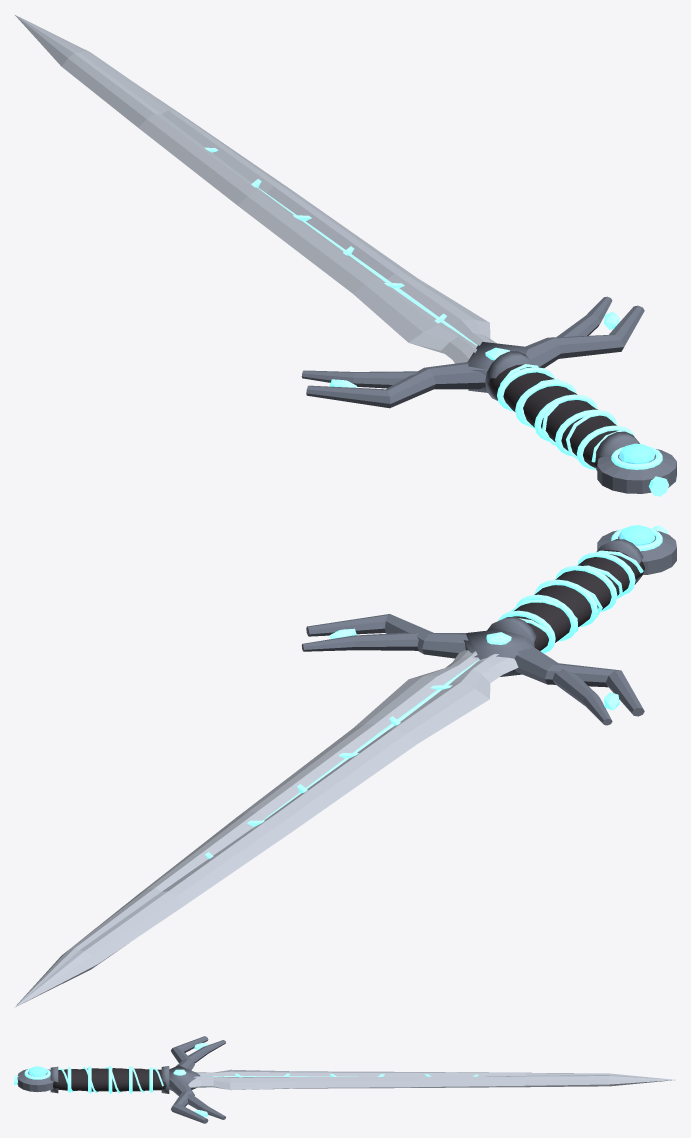
The model's file is SWORD_RUNE.glb.
The picture shows the model from 3 angles, top to bottom: view 1: azimuth 30°, elevation 25°; view 2: azimuth 150°, elevation 25°; view 3: azimuth 270°, elevation 25°; orthographic projection. The views are drawn at different scales.
Visible parts, largest first — view 1: RuneBlade, Grip, StormQuillon_-1, StormQuillon_1, PommelDisc, StormTine_-1, GripWireWrap, StormTine_1, RuneEcusson, GripFerrule_0, RuneInlay; view 2: RuneBlade, Grip, StormQuillon_1, StormQuillon_-1, StormTine_1, RuneEcusson, StormTine_-1, PommelDisc, GripWireWrap, RuneInlay; view 3: RuneBlade, Grip, StormQuillon_1, PommelDisc, StormQuillon_-1, RuneEcusson, StormTine_1, StormTine_-1, GripWireWrap, GripFerrule_0, GripFerrule_1, PommelGem.
Part boxes in pixels (bbox=[...]): RuneBlade: bbox=[15, 15, 496, 363]; Grip: bbox=[488, 364, 617, 467]; StormQuillon_-1: bbox=[306, 362, 486, 408]; StormQuillon_1: bbox=[525, 305, 644, 368]; PommelDisc: bbox=[597, 449, 676, 493]; StormTine_-1: bbox=[301, 370, 418, 388]; GripWireWrap: bbox=[500, 364, 632, 462]; StormTine_1: bbox=[556, 296, 612, 337]; RuneEcusson: bbox=[467, 342, 528, 392]; GripFerrule_0: bbox=[485, 351, 533, 400]; RuneInlay: bbox=[258, 187, 477, 346]; RuneBlade: bbox=[14, 650, 518, 1007]; Grip: bbox=[512, 549, 644, 650]; StormQuillon_1: bbox=[306, 614, 468, 658]; StormQuillon_-1: bbox=[514, 646, 644, 716]; StormTine_1: bbox=[301, 632, 418, 651]; RuneEcusson: bbox=[463, 629, 533, 676]; StormTine_-1: bbox=[552, 668, 612, 725]; PommelDisc: bbox=[597, 530, 676, 575]; GripWireWrap: bbox=[511, 550, 643, 637]; RuneInlay: bbox=[252, 659, 479, 828]; RuneBlade: bbox=[188, 1069, 674, 1090]; Grip: bbox=[53, 1068, 166, 1091]; StormQuillon_1: bbox=[169, 1078, 208, 1123]; PommelDisc: bbox=[17, 1069, 53, 1092]; StormQuillon_-1: bbox=[171, 1036, 208, 1070]; RuneEcusson: bbox=[169, 1065, 199, 1090]; StormTine_1: bbox=[187, 1094, 225, 1119]; StormTine_-1: bbox=[188, 1040, 225, 1063]; GripWireWrap: bbox=[59, 1067, 163, 1092]; GripFerrule_0: bbox=[161, 1066, 169, 1093]; GripFerrule_1: bbox=[50, 1066, 58, 1093]; PommelGem: bbox=[28, 1066, 46, 1076].
Size of the model in its own units: 0.2622 by 0.037 by 0.867.
